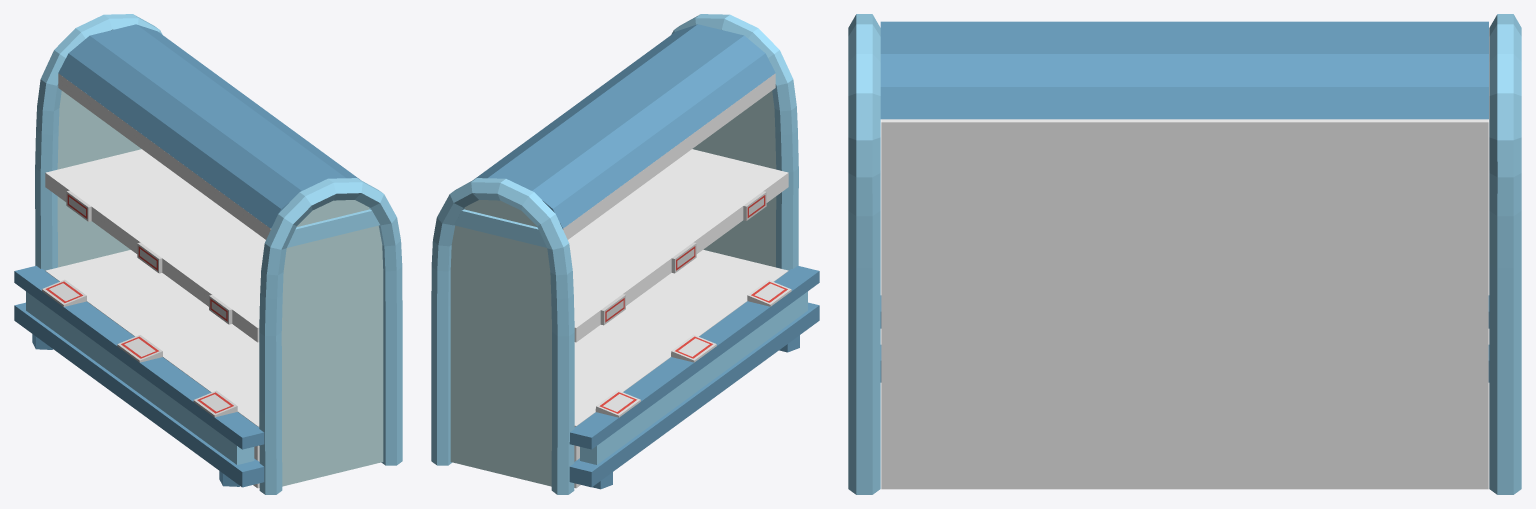
File: Icebox2.fbx
3 views of the same model, side by side, from view 1: azimuth 30°, elevation 25°; view 2: azimuth 150°, elevation 25°; view 3: azimuth 270°, elevation 25° (orthographic). The views are drawn at different scales.
Visible parts, largest first — view 1: Icebox 2; view 2: Icebox 2; view 3: Icebox 2.
Part boxes in pixels (x1=…): Icebox 2: x1=14, y1=14, x2=402, y2=494; Icebox 2: x1=431, y1=14, x2=819, y2=494; Icebox 2: x1=848, y1=14, x2=1521, y2=494.
Size of the model in its own units: 0.5198 by 1.33 by 0.9238.
